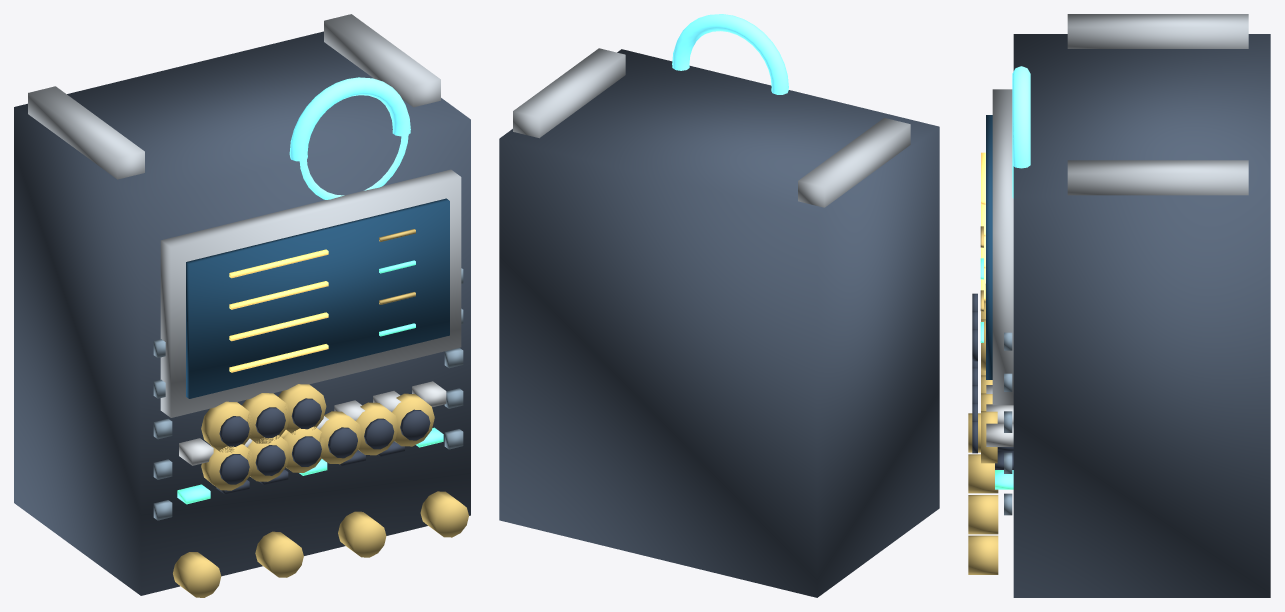
The model's file is 51_L85_DockingCorridorSafetyGuardian.glb.
The picture shows the model from 3 angles, left to right: view 1: azimuth 30°, elevation 25°; view 2: azimuth 150°, elevation 25°; view 3: azimuth 270°, elevation 25°; orthographic projection. The views are drawn at different scales.
Visible parts, largest first — view 1: L85_DockingCorridorSafetyGuar_Part_0000, L85_DockingCorridorSafetyGuar_Part_0002, L85_DockingCorridorSafetyGuar_Part_0001, L85_DockingCorridorSafetyGuar_Part_0004, L85_DockingCorridorSafetyGuar_Part_0009, L85_DockingCorridorSafetyGuar_Part_0008, L85_DockingCorridorSafetyGuar_Part_0003, L85_DockingCorridorSafetyGuar_Part_0006, L85_DockingCorridorSafetyGuar_Part_0005, L85_DockingCorridorSafetyGuar_Part_0022, L85_DockingCorridorSafetyGuar_Part_0024, L85_DockingCorridorSafetyGuar_Part_0010 (+16 smaller); view 2: L85_DockingCorridorSafetyGuar_Part_0000, L85_DockingCorridorSafetyGuar_Part_0001, L85_DockingCorridorSafetyGuar_Part_0009; view 3: L85_DockingCorridorSafetyGuar_Part_0000, L85_DockingCorridorSafetyGuar_Part_0001, L85_DockingCorridorSafetyGuar_Part_0004, L85_DockingCorridorSafetyGuar_Part_0009, L85_DockingCorridorSafetyGuar_Part_0002, L85_DockingCorridorSafetyGuar_Part_0006, L85_DockingCorridorSafetyGuar_Part_0008, L85_DockingCorridorSafetyGuar_Part_0020, L85_DockingCorridorSafetyGuar_Part_0003, L85_DockingCorridorSafetyGuar_Part_0005.
Part boxes in pixels (bbox=[...]): L85_DockingCorridorSafetyGuar_Part_0000: bbox=[14, 31, 470, 595]; L85_DockingCorridorSafetyGuar_Part_0002: bbox=[186, 198, 449, 398]; L85_DockingCorridorSafetyGuar_Part_0001: bbox=[28, 14, 461, 417]; L85_DockingCorridorSafetyGuar_Part_0004: bbox=[173, 229, 468, 597]; L85_DockingCorridorSafetyGuar_Part_0009: bbox=[289, 77, 410, 199]; L85_DockingCorridorSafetyGuar_Part_0008: bbox=[153, 268, 463, 520]; L85_DockingCorridorSafetyGuar_Part_0003: bbox=[229, 249, 328, 372]; L85_DockingCorridorSafetyGuar_Part_0006: bbox=[179, 381, 446, 465]; L85_DockingCorridorSafetyGuar_Part_0005: bbox=[177, 260, 443, 504]; L85_DockingCorridorSafetyGuar_Part_0022: bbox=[201, 401, 253, 452]; L85_DockingCorridorSafetyGuar_Part_0024: bbox=[242, 393, 290, 443]; L85_DockingCorridorSafetyGuar_Part_0010: bbox=[201, 444, 253, 490]; L85_DockingCorridorSafetyGuar_Part_0000: bbox=[499, 49, 939, 597]; L85_DockingCorridorSafetyGuar_Part_0001: bbox=[513, 48, 910, 207]; L85_DockingCorridorSafetyGuar_Part_0009: bbox=[672, 14, 788, 94]; L85_DockingCorridorSafetyGuar_Part_0000: bbox=[1013, 34, 1270, 597]; L85_DockingCorridorSafetyGuar_Part_0001: bbox=[992, 14, 1248, 405]; L85_DockingCorridorSafetyGuar_Part_0004: bbox=[968, 226, 998, 574]; L85_DockingCorridorSafetyGuar_Part_0009: bbox=[1012, 66, 1030, 198]; L85_DockingCorridorSafetyGuar_Part_0002: bbox=[986, 115, 992, 379]; L85_DockingCorridorSafetyGuar_Part_0006: bbox=[986, 385, 1013, 446]; L85_DockingCorridorSafetyGuar_Part_0008: bbox=[1004, 332, 1012, 515]; L85_DockingCorridorSafetyGuar_Part_0020: bbox=[981, 411, 997, 463]; L85_DockingCorridorSafetyGuar_Part_0003: bbox=[981, 152, 985, 299]; L85_DockingCorridorSafetyGuar_Part_0005: bbox=[980, 258, 1013, 489].
Bounding box in the file's own units: 0.9588 × 1.28 × 0.752.
